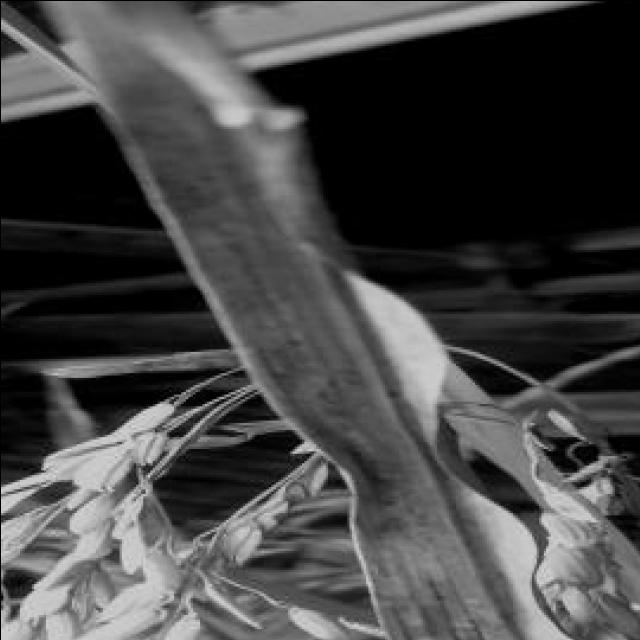Bacterial_Leaf_Blight: (278, 227, 491, 640)
